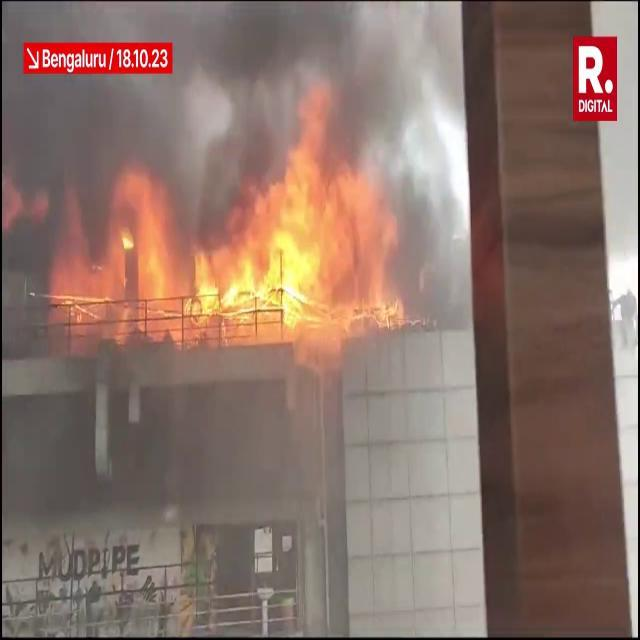Fire: (65, 137, 403, 336)
Smoke: (162, 0, 463, 200)
